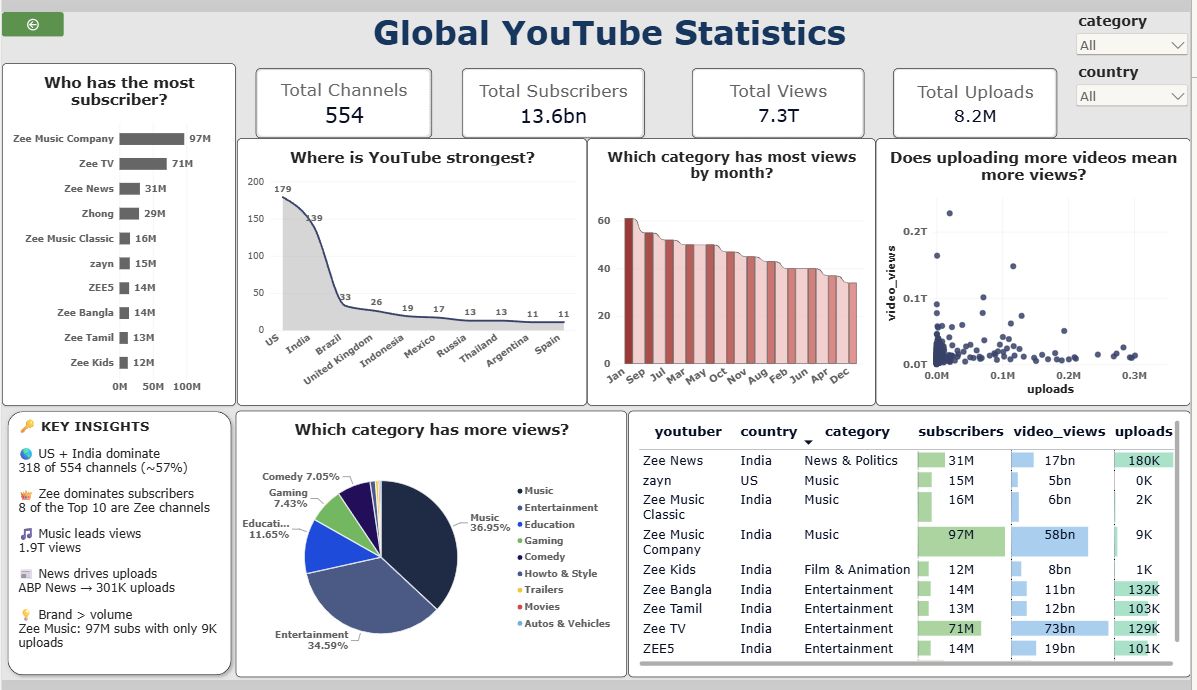

The page's visual inventory and layout, read from the dashboard file:
{"tool":"powerbi","page":{"name":"Page 1","canvas":[1920,1080],"ordinal":0},"visuals":[{"type":"cardVisual","fields":{"Data":["Youtube.Total Channels"]},"box":[409.9,90.9,284.7,113.1],"z":0},{"type":"cardVisual","fields":{"Data":["Youtube.Total Subscribers"]},"box":[743.1,90.9,294.8,113.1],"z":1000},{"type":"cardVisual","fields":{"Data":["Youtube.Total Views"]},"box":[1114.7,90.9,278.7,113.1],"z":2000},{"type":"cardVisual","fields":{"Data":["Youtube.Total Uploads"]},"box":[1439.8,90.9,264.5,113.1],"z":3000},{"type":"clusteredBarChart","title":"Who has the most subscriber?","fields":{"Category":["Youtube.youtuber"],"Y":["Sum(Youtube.subscribers)"]},"box":[0,82.8,377.6,553.3],"z":4000},{"type":"pieChart","title":"Which category has more views?","fields":{"Category":["Youtube.Others"],"Y":["Sum(Youtube.video_views)"]},"box":[377.6,644.2,632.1,430.1],"z":5000},{"type":"areaChart","title":"Where is YouTube strongest?","fields":{"Category":["Youtube.country"],"Y":["CountNonNull(Youtube.youtuber)"]},"box":[379.6,204,565.4,432.1],"z":6000},{"type":"tableEx","fields":{"Values":["Youtube.youtuber","Youtube.country","Youtube.category","Sum(Youtube.subscribers)","Sum(Youtube.video_views)","Sum(Youtube.uploads)"]},"box":[1011.7,644.2,908.7,430.1],"z":7000},{"type":"slicer","fields":{"Values":["Youtube.category"]},"box":[1729.6,0,190.8,83],"z":8000},{"type":"actionButton","box":[0,0,100,40],"z":9000},{"type":"slicer","fields":{"Values":["Youtube.country"]},"box":[1729.6,83,190.8,91.3],"z":10000},{"type":"shape","box":[0,636.1,379.6,444.3],"z":11000},{"type":"textbox","box":[26.3,636.1,375.6,444.3],"z":12000},{"type":"textbox","box":[569.5,0,823.9,82.8],"z":13000},{"type":"scatterChart","title":"Does uploading more videos mean more views?","fields":{"X":["Youtube.uploads"],"Y":["Youtube.video_views"]},"box":[1411.5,204,508.9,432.1],"z":14000},{"type":"ribbonChart","title":"Which category has most views by month?","fields":{"Category":["Youtube.created_month"],"Y":["CountNonNull(Youtube.category)"]},"box":[945.1,204,466.5,432.1],"z":15000}]}

Visuals, with their boxes in screenshot pixels (x1, y1, x2, y2), scaled from the page's 1920x1080 canvas onto the 1197x690 screenshot:
cardVisual - Youtube.Total Channels: [left=256, top=58, right=433, bottom=130]
cardVisual - Youtube.Total Subscribers: [left=463, top=58, right=647, bottom=130]
cardVisual - Youtube.Total Views: [left=695, top=58, right=869, bottom=130]
cardVisual - Youtube.Total Uploads: [left=898, top=58, right=1063, bottom=130]
"Who has the most subscriber?" clusteredBarChart: [left=0, top=53, right=235, bottom=406]
"Which category has more views?" pieChart: [left=235, top=412, right=629, bottom=686]
"Where is YouTube strongest?" areaChart: [left=237, top=130, right=589, bottom=406]
tableEx - Youtube.youtuber x Youtube.country: [left=631, top=412, right=1196, bottom=686]
slicer - Youtube.category: [left=1078, top=0, right=1196, bottom=53]
actionButton: [left=0, top=0, right=62, bottom=26]
slicer - Youtube.country: [left=1078, top=53, right=1196, bottom=111]
shape: [left=0, top=406, right=237, bottom=689]
textbox: [left=16, top=406, right=251, bottom=689]
textbox: [left=355, top=0, right=869, bottom=53]
"Does uploading more videos mean more views?" scatterChart: [left=880, top=130, right=1196, bottom=406]
"Which category has most views by month?" ribbonChart: [left=589, top=130, right=880, bottom=406]
